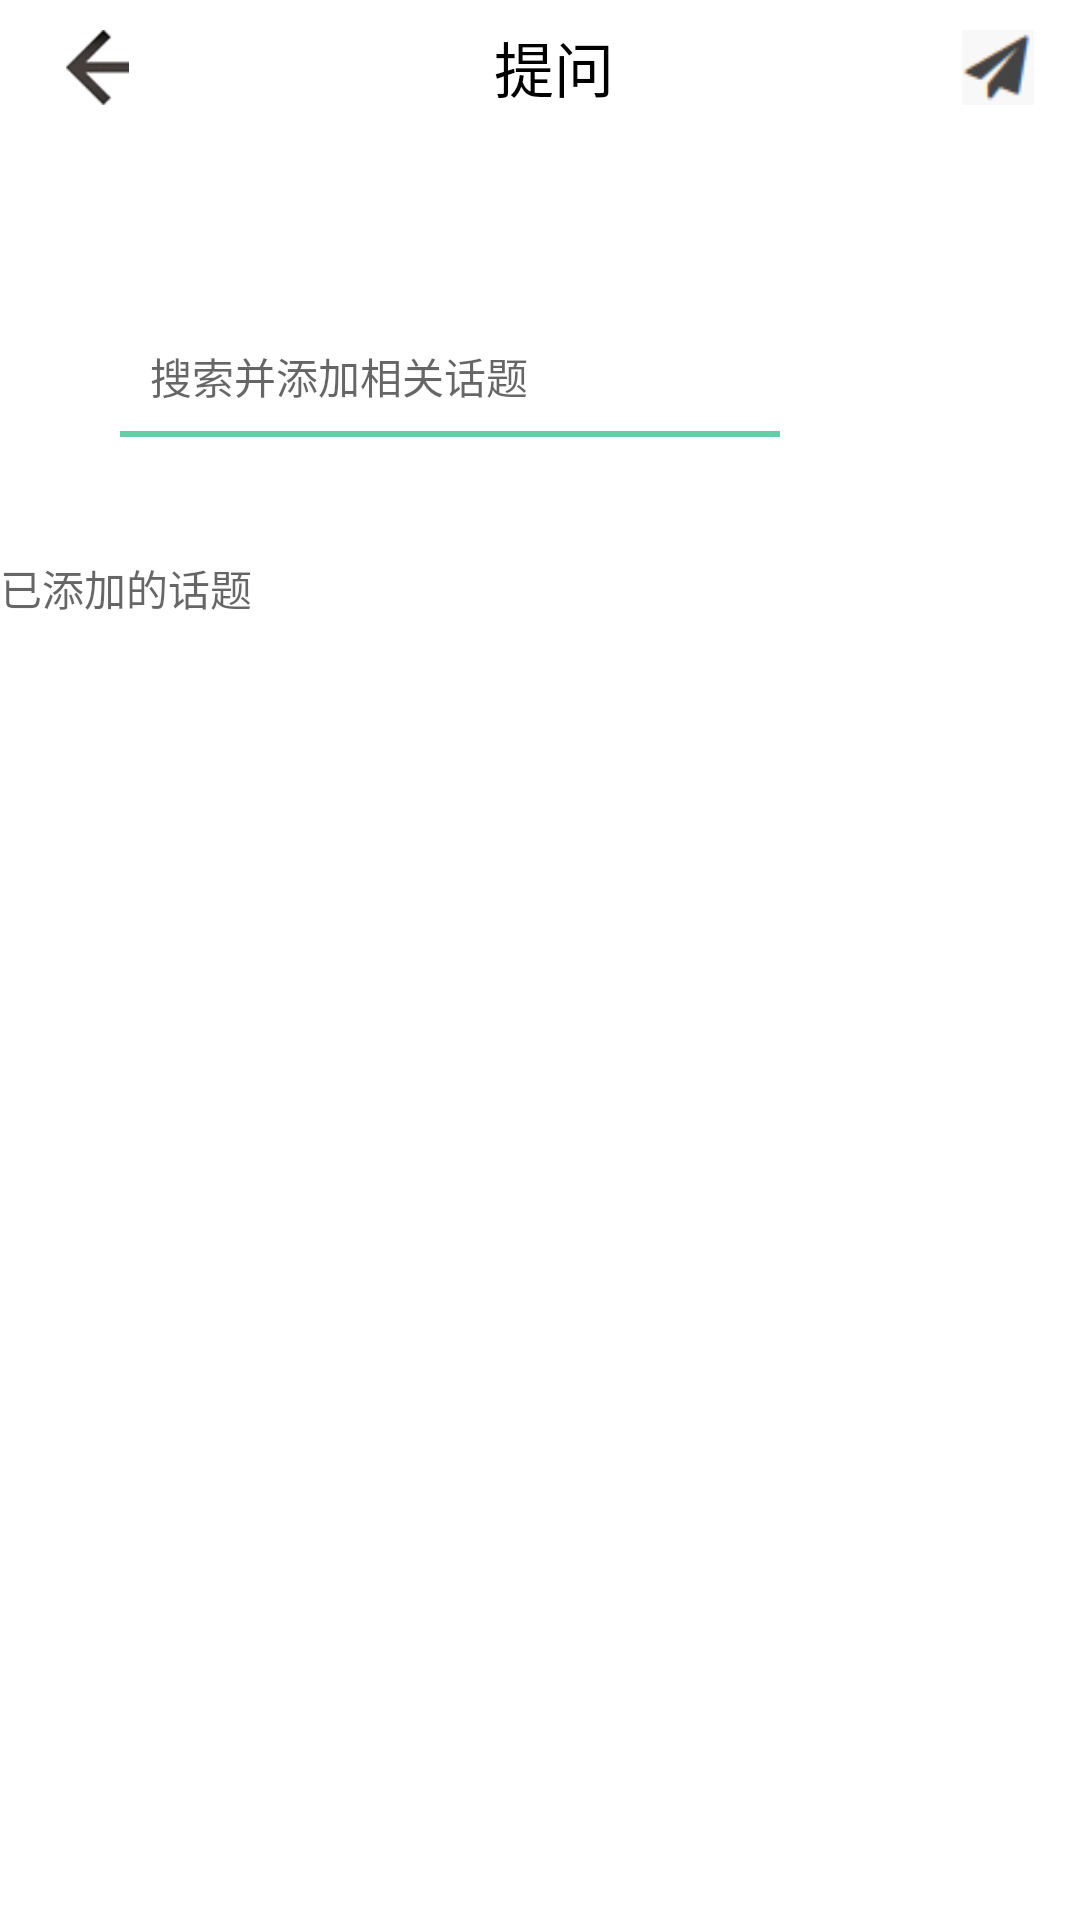

Screen size 1080px×1920px. Icon name, then its center in pixels as (x=x, y=y):
arrow left: (x=97, y=67)
paper plane: (x=996, y=67)
